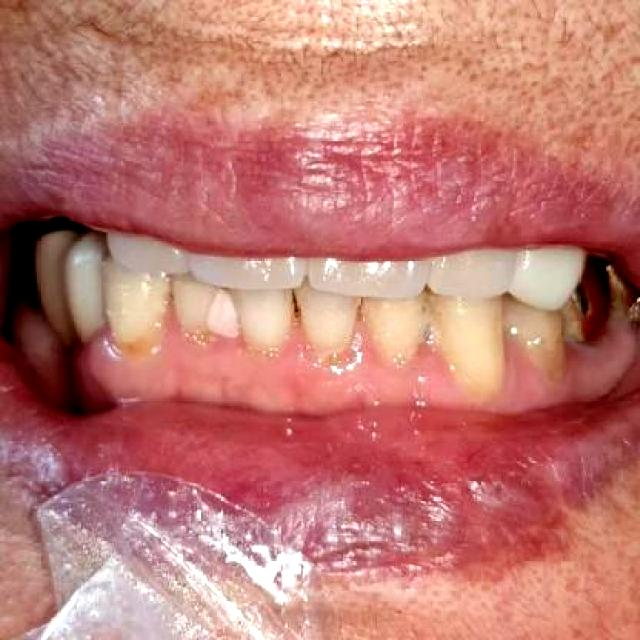Plaque: (515, 333, 579, 386)
